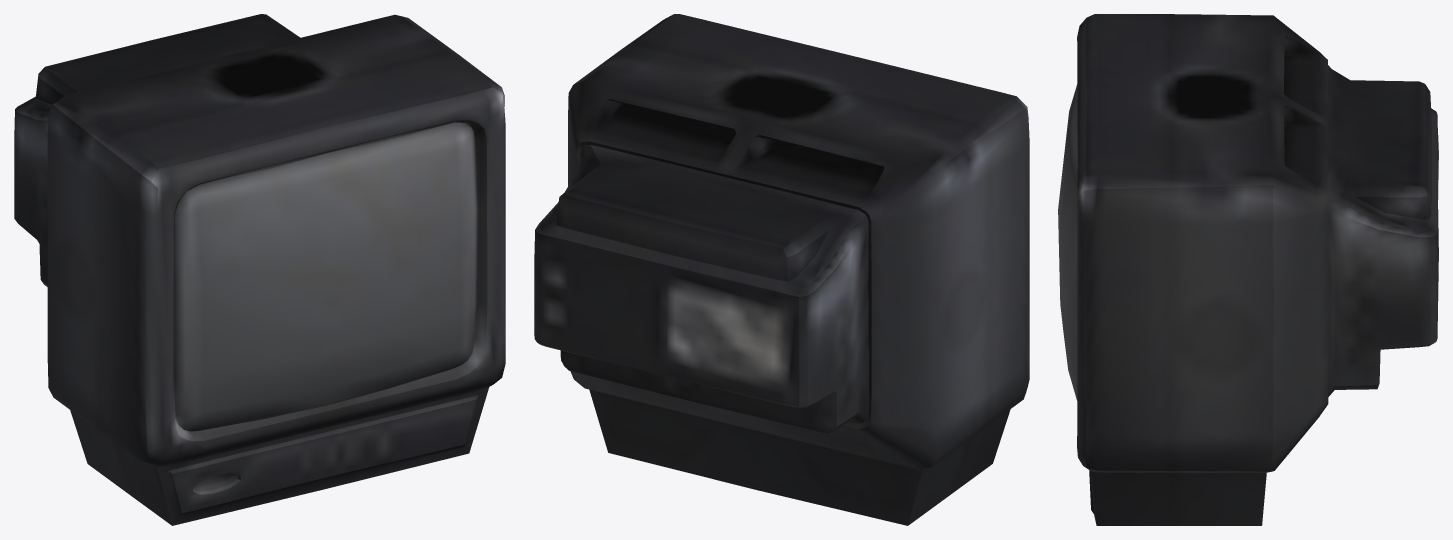
3 renders of one model, left to right at view 1: azimuth 30°, elevation 25°; view 2: azimuth 150°, elevation 25°; view 3: azimuth 270°, elevation 25°, orthographic. The views are drawn at different scales.
Parts seen in each view (by area): view 1: tv_1; view 2: tv_1; view 3: tv_1.
Boxes of the visible parts, x1,y1,x2,y2 form: tv_1: [14, 14, 505, 525]; tv_1: [534, 14, 1029, 525]; tv_1: [1058, 14, 1438, 525].
Bounding box in the file's own units: 0.5944 × 0.5742 × 0.5466.
